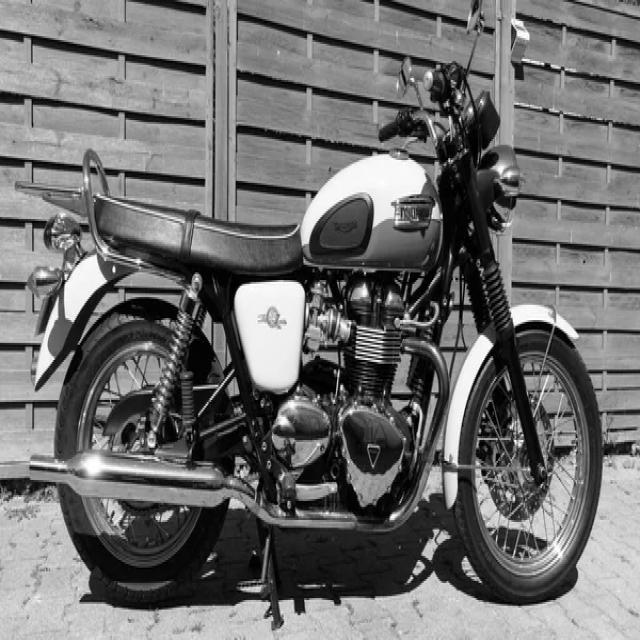Motorcycle: (18, 54, 601, 596)
